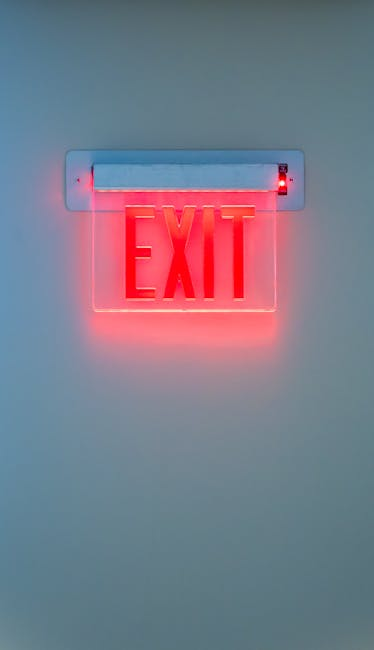emergency_exit: (65, 148, 305, 317)
